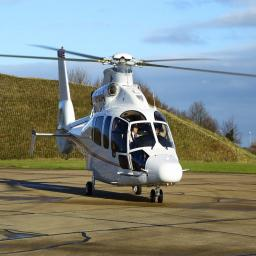helicopter: (1, 39, 255, 213)
